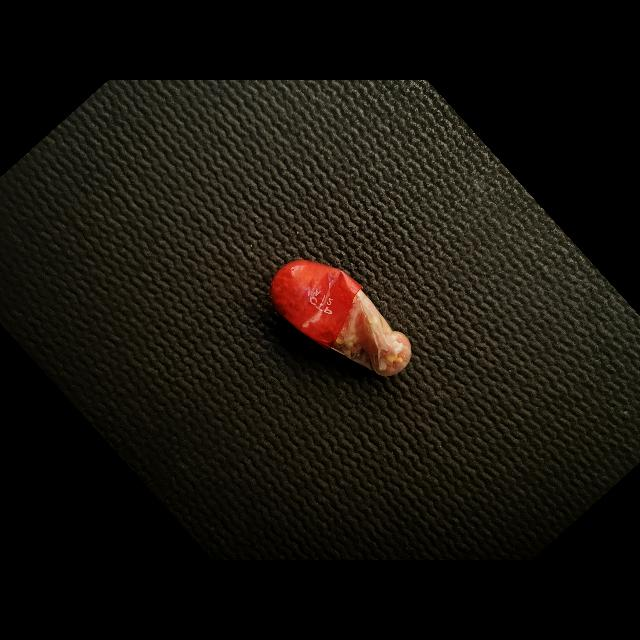Defective Capsule: (271, 260, 411, 376)
